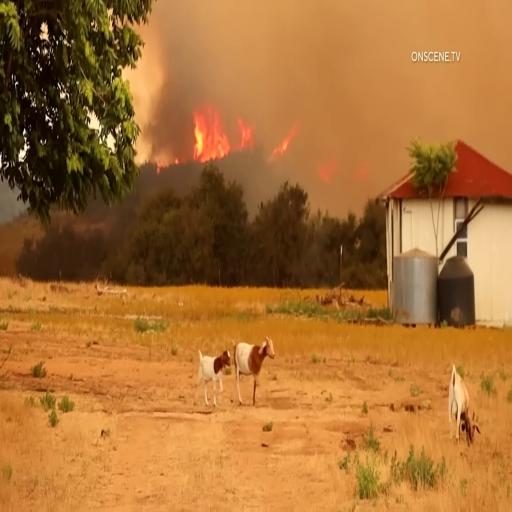fire: (187, 92, 232, 166)
